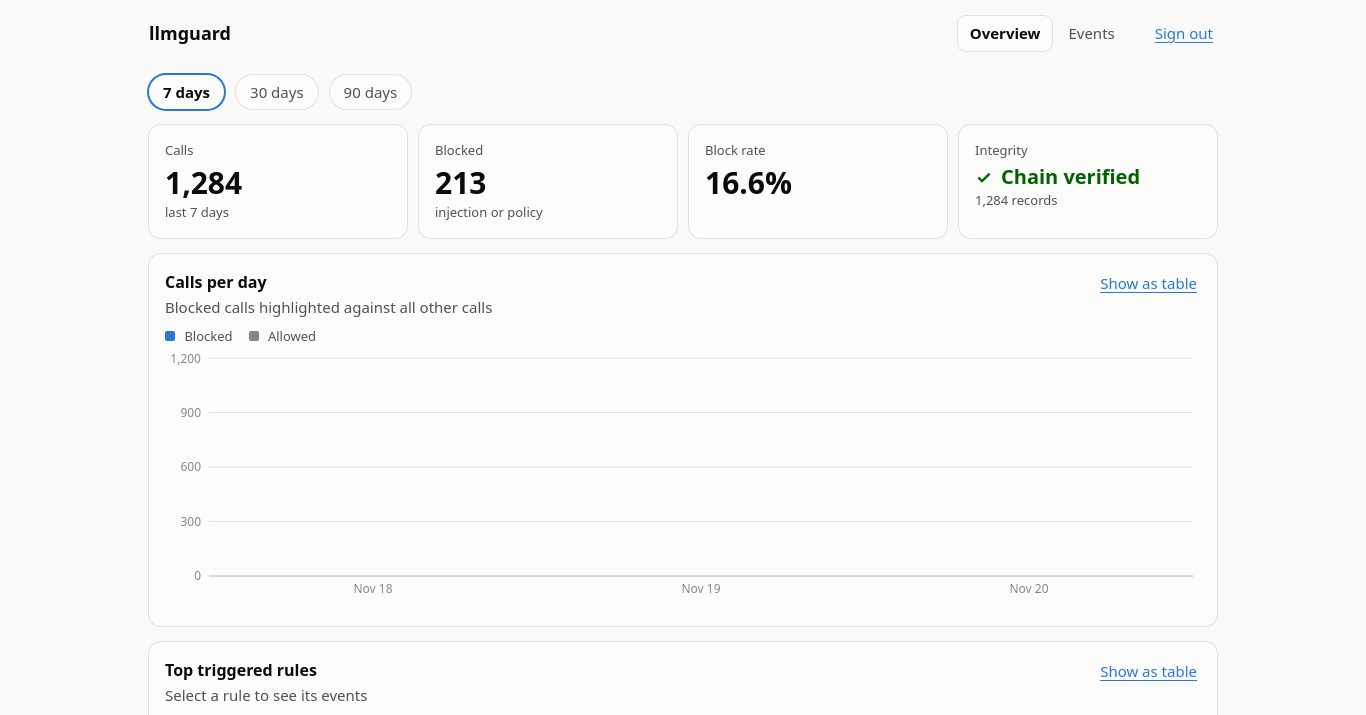
Test: App › switches between Overview and Events
Expected: the text "1,284" is shown, [165,164,242,200]
Click the tab "Events" at (1092, 33), box [1056,16,1127,50]
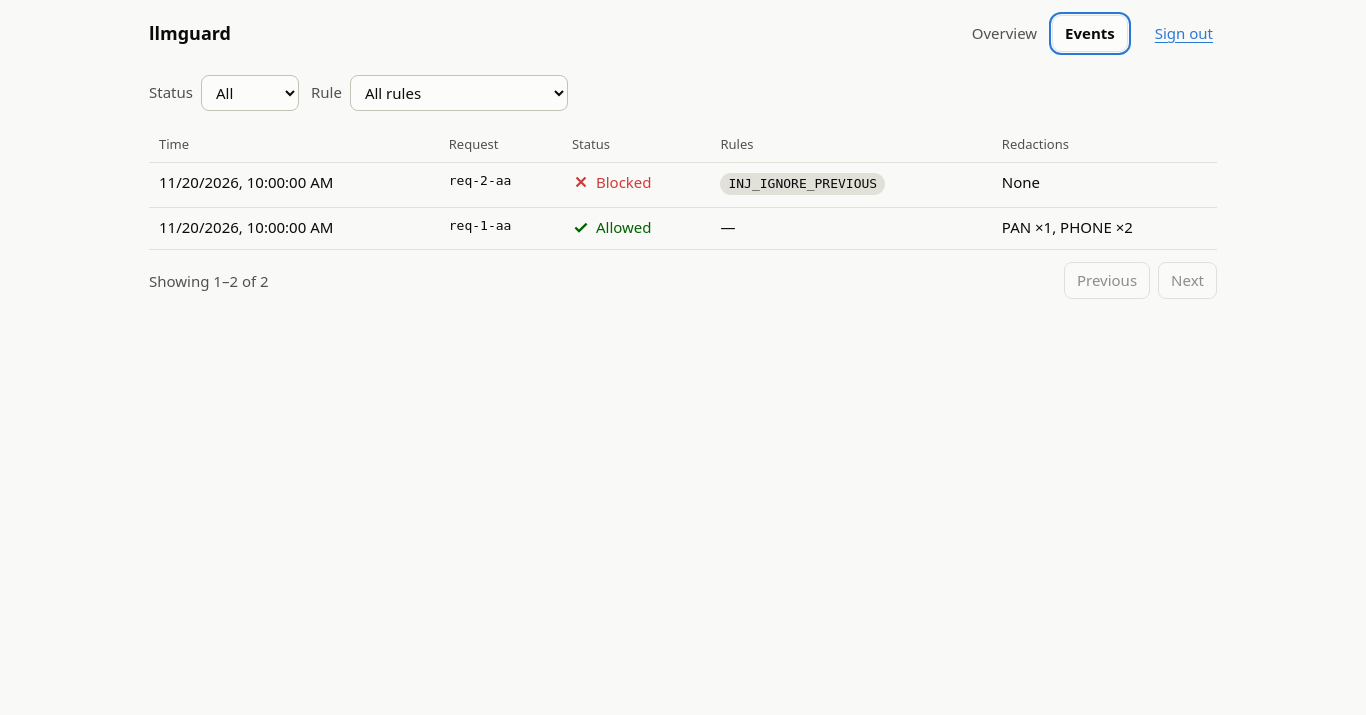
Expected: the table named "audit events" is shown, [149,126,1217,250]
Click the tab "Overview" at (1004, 33), box [960,16,1049,50]
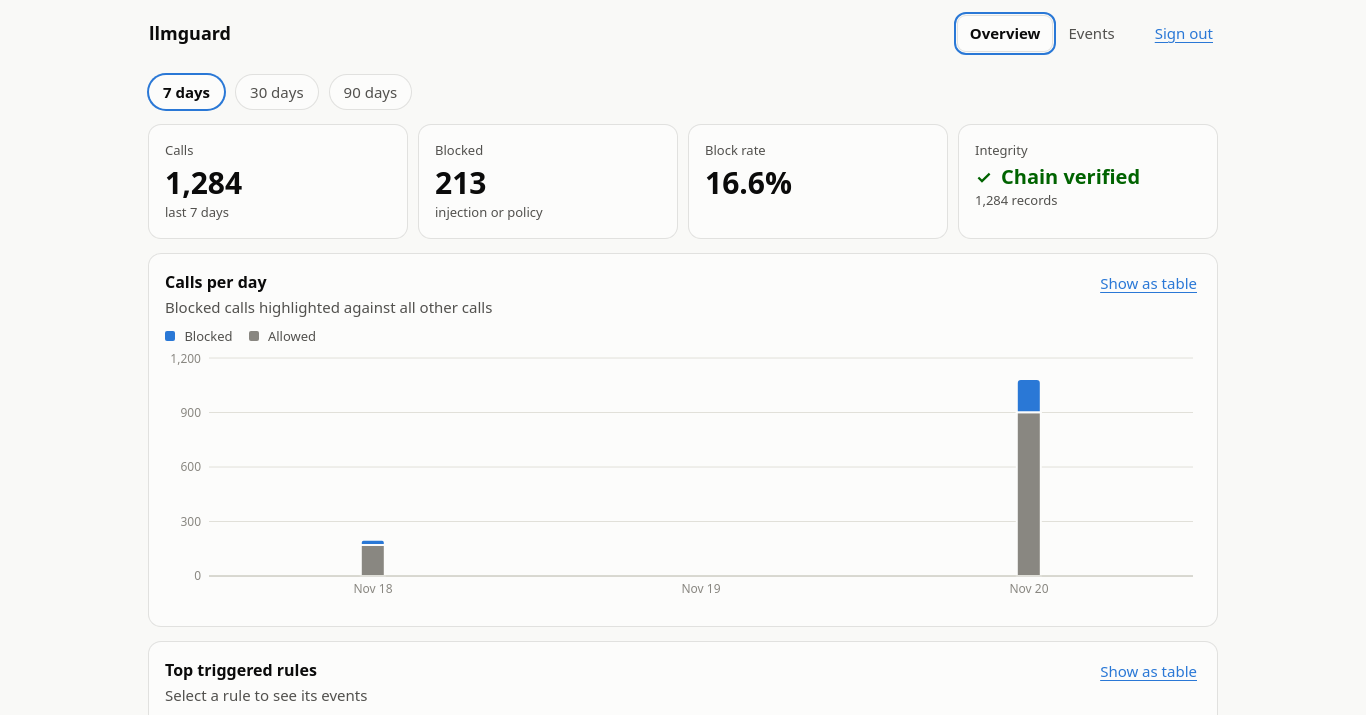
Expected: the text "1,284" is shown, [165,164,242,200]
